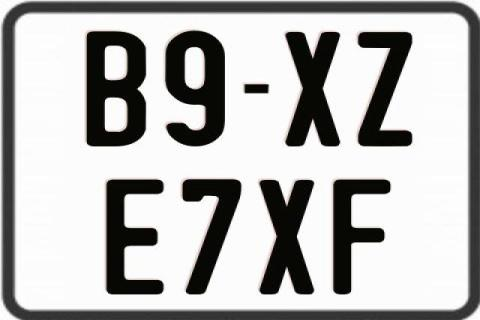0: (165, 29, 230, 149), (180, 177, 243, 296)
B: (86, 29, 151, 147)
E: (106, 178, 167, 296)
F: (333, 177, 395, 293)
X: (257, 178, 318, 294), (284, 31, 344, 146)
Z: (357, 32, 417, 150)
